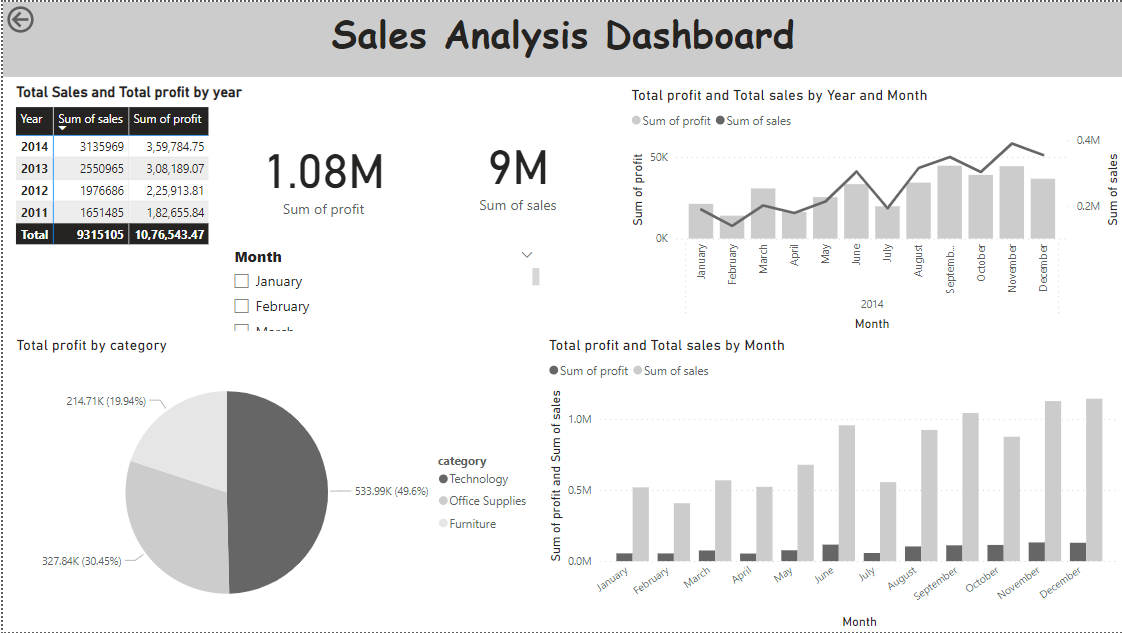

Layout of this report page (visuals, bound fields, positions):
{"tool":"powerbi","page":{"name":"Sales Analysis Dashboard","canvas":[1280,720],"ordinal":0},"visuals":[{"type":"textbox","box":[0,0,1280,85.7],"z":0},{"type":"pivotTable","title":"Total Sales and Total profit by year","fields":{"Rows":["SuperStoreOrders (2).order_date.Variation.Date Hierarchy.Year"],"Values":["Sum(SuperStoreOrders (2).sales)","Sum(SuperStoreOrders (2).profit)"]},"box":[9.4,86.2,386.5,251.8],"z":1000},{"type":"clusteredColumnChart","title":"Total profit and Total sales by Month","fields":{"Category":["SuperStoreOrders (2).order_date.Variation.Date Hierarchy.Month"],"Y":["Sum(SuperStoreOrders (2).profit)","Sum(SuperStoreOrders (2).sales)"]},"box":[618.1,381.1,662.5,339.3],"z":2000},{"type":"card","fields":{"Values":["Sum(SuperStoreOrders (2).sales)"]},"box":[464.3,111.4,248.6,162.9],"z":3000},{"type":"card","fields":{"Values":["Sum(SuperStoreOrders (2).profit)"]},"box":[265.7,111.4,201.4,172.9],"z":4000},{"type":"lineClusteredColumnComboChart","title":"Total profit and Total sales by Year and Month","fields":{"Category":["SuperStoreOrders (2).order_date.Variation.Date Hierarchy.Year","SuperStoreOrders (2).order_date.Variation.Date Hierarchy.Month"],"Y":["Sum(SuperStoreOrders (2).profit)"],"Y2":["Sum(SuperStoreOrders (2).sales)"]},"box":[712.3,95.6,568.2,285.5],"z":5000},{"type":"pieChart","title":"Total profit by category","fields":{"Y":["Sum(SuperStoreOrders (2).profit)"],"Category":["SuperStoreOrders (2).category"]},"box":[9.4,381.1,601.9,339.3],"z":6000},{"type":"actionButton","box":[0,0,100,40],"z":7000},{"type":"slicer","fields":{"Values":["SuperStoreOrders (2).order_date.Variation.Date Hierarchy.Month"]},"box":[251.8,274.7,366.3,106.4],"z":8000}]}

Visuals, with their boxes in screenshot pixels (x1, y1, x2, y2), scaled from the page's 1280x720 canvas onto the 1122x633 screenshot:
textbox: <box>0,0,1121,75</box>
"Total Sales and Total profit by year" pivotTable: <box>8,76,347,297</box>
"Total profit and Total sales by Month" clusteredColumnChart: <box>542,335,1121,632</box>
card - Sum(SuperStoreOrders (2).sales): <box>407,98,625,241</box>
card - Sum(SuperStoreOrders (2).profit): <box>233,98,409,250</box>
"Total profit and Total sales by Year and Month" lineClusteredColumnComboChart: <box>624,84,1121,335</box>
"Total profit by category" pieChart: <box>8,335,536,632</box>
actionButton: <box>0,0,88,35</box>
slicer - SuperStoreOrders (2).order_date.Variation.Date Hierarchy.Month: <box>221,242,542,335</box>
